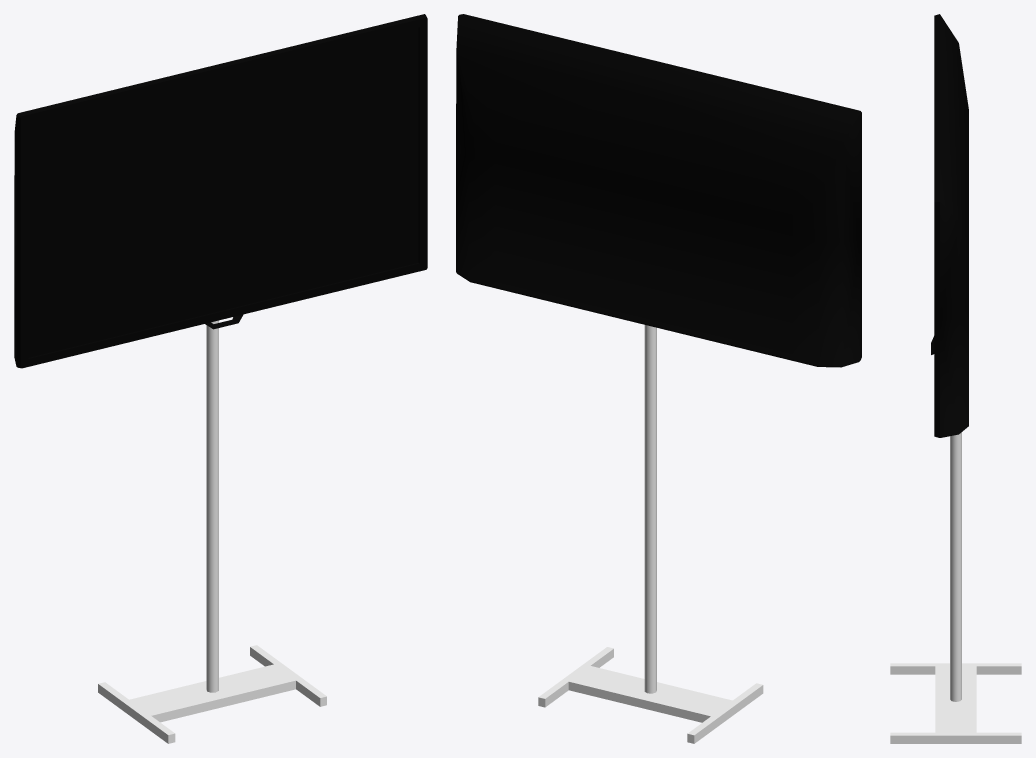
The picture shows the model from 3 angles, left to right: view 1: azimuth 30°, elevation 25°; view 2: azimuth 150°, elevation 25°; view 3: azimuth 270°, elevation 25°; orthographic projection. The views are drawn at different scales.
Visible parts, largest first — view 1: Screen, TV; view 2: TV; view 3: TV.
Boxes of the visible parts, left/top/right/bottom form: Screen: left=29, top=28, right=417, bottom=356; TV: left=14, top=14, right=427, bottom=743; TV: left=456, top=14, right=861, bottom=743; TV: left=890, top=14, right=1021, bottom=743.
Bounding box in the file's own units: 1.46 × 2.19 × 0.4346.
3 materials, 1 textured.
